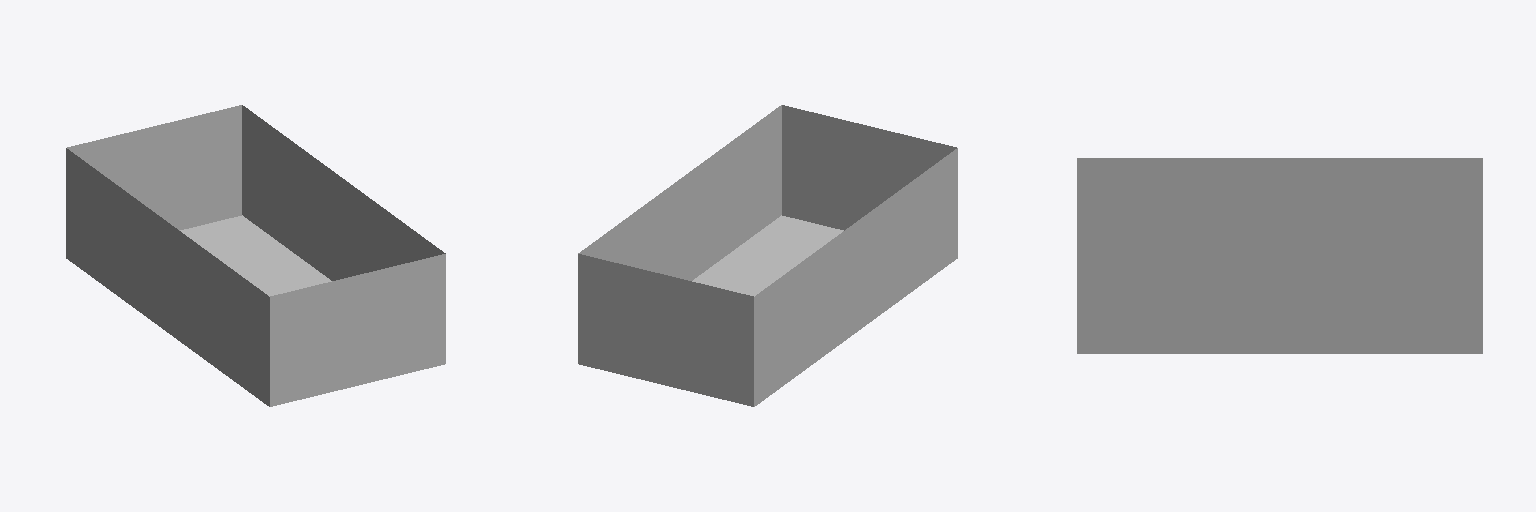
Rendered from map2.obj.
The picture shows the model from 3 angles: view 1: azimuth 30°, elevation 25°; view 2: azimuth 150°, elevation 25°; view 3: azimuth 270°, elevation 25°; orthographic projection.
Visible parts, largest first — view 1: Cube; view 2: Cube; view 3: Cube.
Boxes of the visible parts, <box> form: Cube: <box>66,105,445,406</box>; Cube: <box>578,105,957,406</box>; Cube: <box>1077,158,1482,353</box>.
Size of the model in its own units: 10 by 6 by 20.